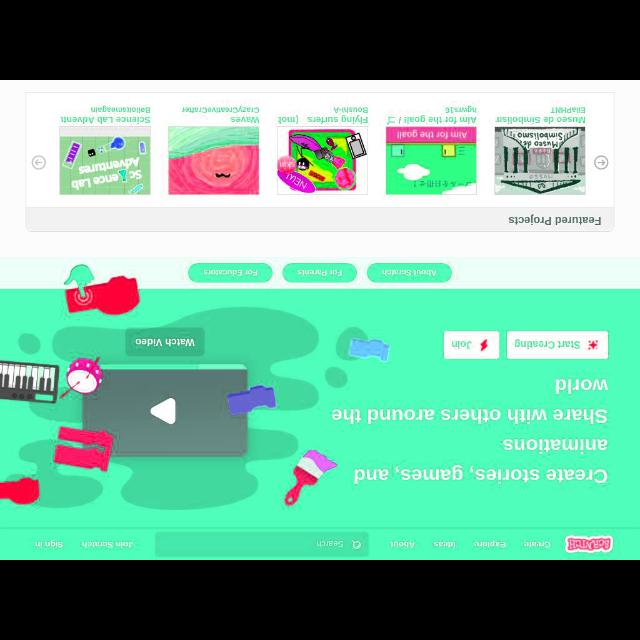icon: (32, 156, 48, 172), (594, 156, 608, 172), (350, 540, 360, 550)
image: (2, 290, 344, 518), (58, 124, 150, 196), (167, 128, 259, 195), (495, 127, 585, 195), (386, 126, 476, 194), (278, 126, 368, 194), (55, 264, 149, 316), (562, 530, 618, 556)
input: (156, 533, 366, 555)
multitab: (32, 538, 136, 552)
text: (333, 379, 611, 486), (278, 105, 368, 123), (386, 107, 476, 125), (181, 105, 259, 125), (60, 108, 150, 124), (497, 108, 585, 124), (508, 215, 602, 227), (80, 539, 134, 549), (390, 538, 418, 550), (474, 539, 506, 549), (34, 540, 64, 550), (430, 539, 458, 549), (318, 540, 344, 550), (525, 540, 549, 548)
textbutton: (507, 329, 608, 358), (280, 260, 362, 284), (130, 328, 200, 356), (366, 262, 450, 284), (188, 264, 276, 284), (444, 330, 500, 360)
toolbar: (1, 530, 638, 558)
